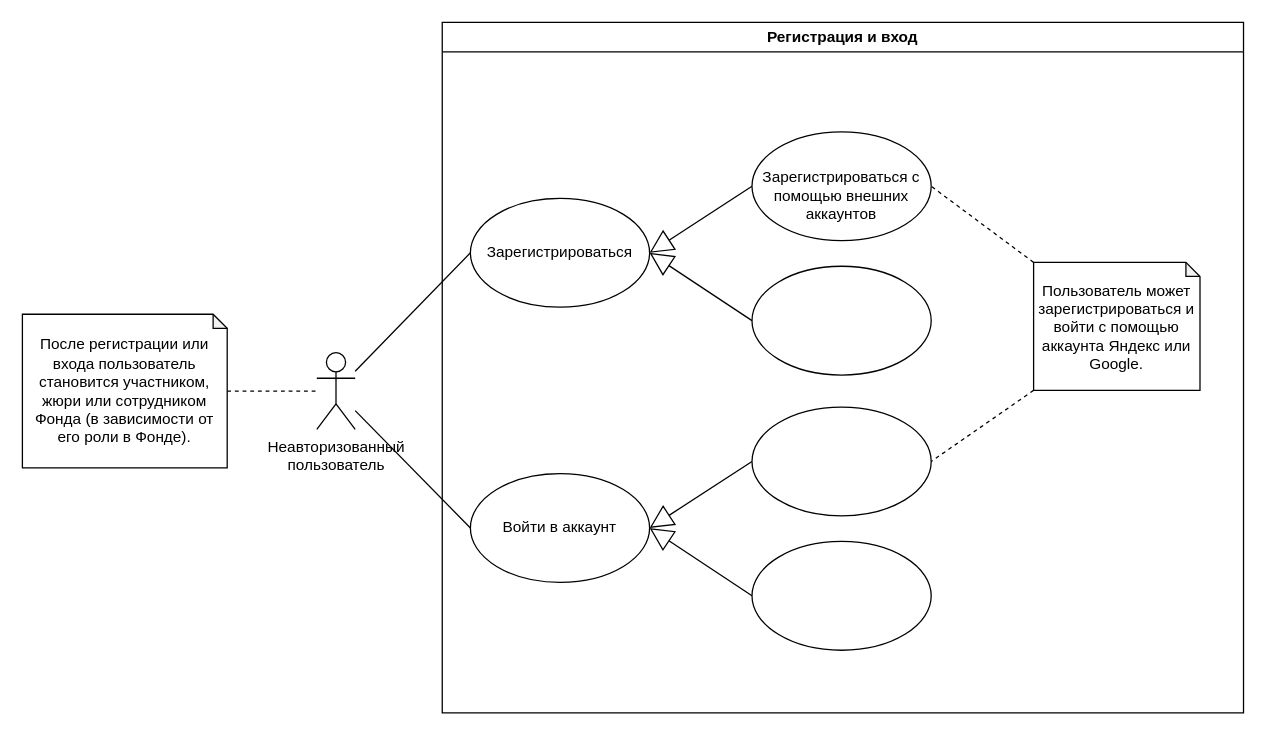
This 1266x736 diagram has some shape labels left out. The box of each missing label's shape, as (x1, y1, x2, y2) in pixels:
Войти с помощью внешних аккаунтов: (751, 406, 931, 516)
Заполнить анкету: (751, 265, 931, 375)
Заполнить поля "логин" и "пароль": (751, 540, 931, 650)
